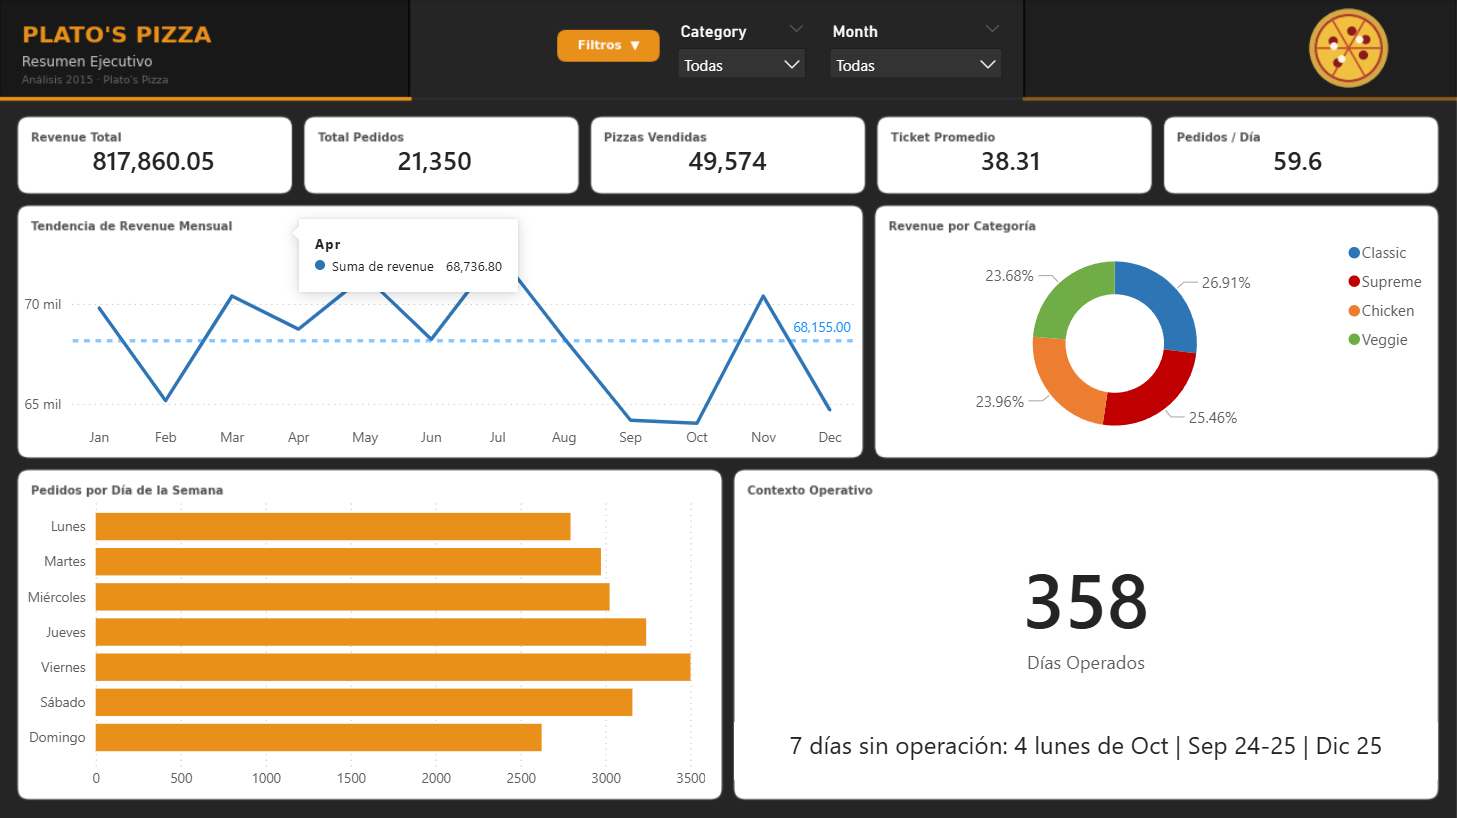

Layout of this report page (visuals, bound fields, positions):
{"tool":"powerbi","page":{"name":"Resumen","canvas":[1280,720],"ordinal":0},"visuals":[{"type":"cardVisual","fields":{"Data":["pizza_features.Ticket Promedio"]},"box":[769.2,103.6,238.8,72],"z":0},{"type":"cardVisual","fields":{"Data":["pizza_features.Pedidos Por Dia"]},"box":[1021.2,103.6,238.8,72],"z":1000},{"type":"cardVisual","fields":{"Data":["Sum(pizza_features.revenue)"]},"box":[16.7,103.6,238.8,72],"z":2000},{"type":"cardVisual","fields":{"Data":["Count(pizza_features.order_id)"]},"box":[263.4,103.6,238.8,72],"z":3000},{"type":"cardVisual","fields":{"Data":["Sum(pizza_features.quantity)"]},"box":[520.7,103.6,238.8,72],"z":4000},{"type":"lineChart","fields":{"Category":["agg_monthly.month_name"],"Y":["Sum(agg_monthly.revenue)"]},"box":[16.7,182.6,741.1,219.5],"z":5000},{"type":"donutChart","fields":{"Category":["pizza_features.category"],"Y":["Sum(pizza_features.revenue)"]},"box":[770.9,203.7,492.6,195.8],"z":6000},{"type":"barChart","fields":{"Category":["agg_daily.day_name_es"],"Y":["Sum(agg_daily.orders)"]},"box":[14.9,425,610.2,276.6],"z":7000},{"type":"cardVisual","fields":{"Data":["pizza_features.Días Operados"]},"box":[645.4,412.7,618.1,246.7],"z":8000},{"type":"textbox","box":[645.4,634,618.1,50.9],"z":9000},{"type":"slicer","fields":{"Values":["pizza_features.month_name"]},"box":[719.1,14,172.1,61.5],"z":9001},{"type":"slicer","fields":{"Values":["pizza_features.category"]},"box":[585.7,14,133.5,61.5],"z":9002}]}

Visuals, with their boxes in screenshot pixels (x1, y1, x2, y2), scaled from the page's 1280x720 canvas onto the 1457x818 screenshot:
cardVisual - pizza_features.Ticket Promedio: crop(876, 118, 1147, 200)
cardVisual - pizza_features.Pedidos Por Dia: crop(1162, 118, 1434, 200)
cardVisual - Sum(pizza_features.revenue): crop(19, 118, 291, 200)
cardVisual - Count(pizza_features.order_id): crop(300, 118, 572, 200)
cardVisual - Sum(pizza_features.quantity): crop(593, 118, 865, 200)
lineChart - agg_monthly.month_name x Sum(agg_monthly.revenue): crop(19, 207, 863, 457)
donutChart - pizza_features.category x Sum(pizza_features.revenue): crop(878, 231, 1438, 454)
barChart - agg_daily.day_name_es x Sum(agg_daily.orders): crop(17, 483, 712, 797)
cardVisual - pizza_features.Días Operados: crop(735, 469, 1438, 749)
textbox: crop(735, 720, 1438, 778)
slicer - pizza_features.month_name: crop(819, 16, 1014, 86)
slicer - pizza_features.category: crop(667, 16, 819, 86)
